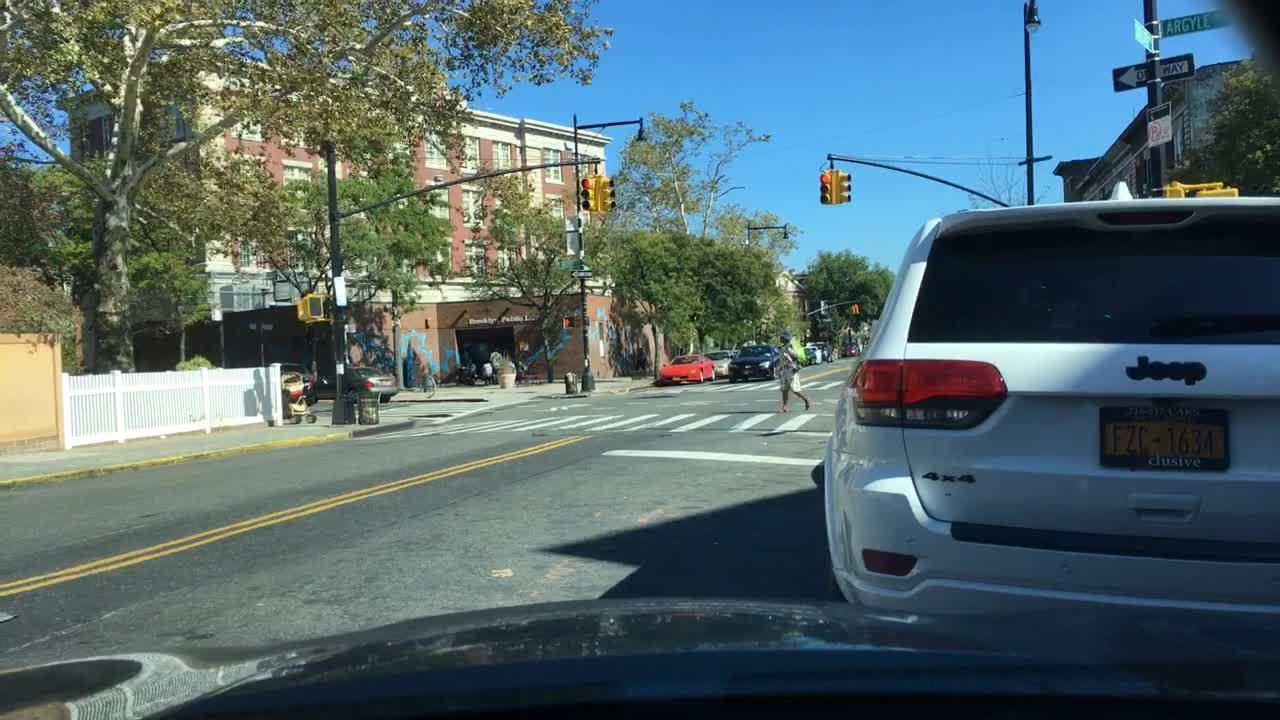jeep: (1106, 333, 1253, 415)
